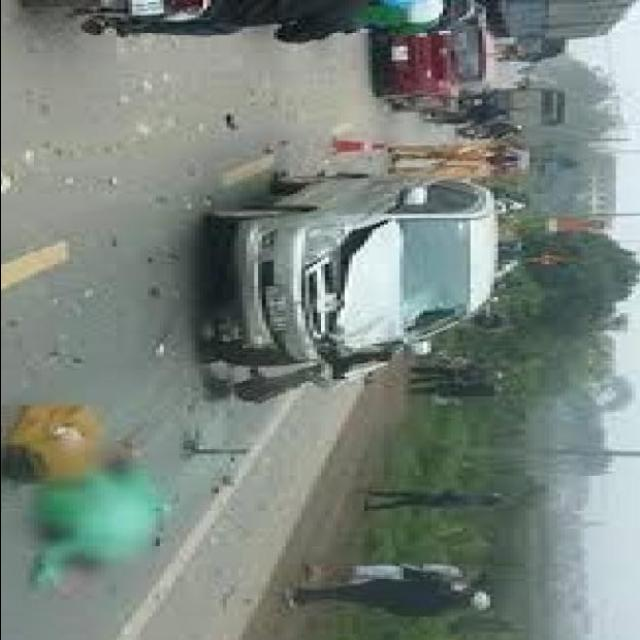accident: (159, 186, 497, 422)
